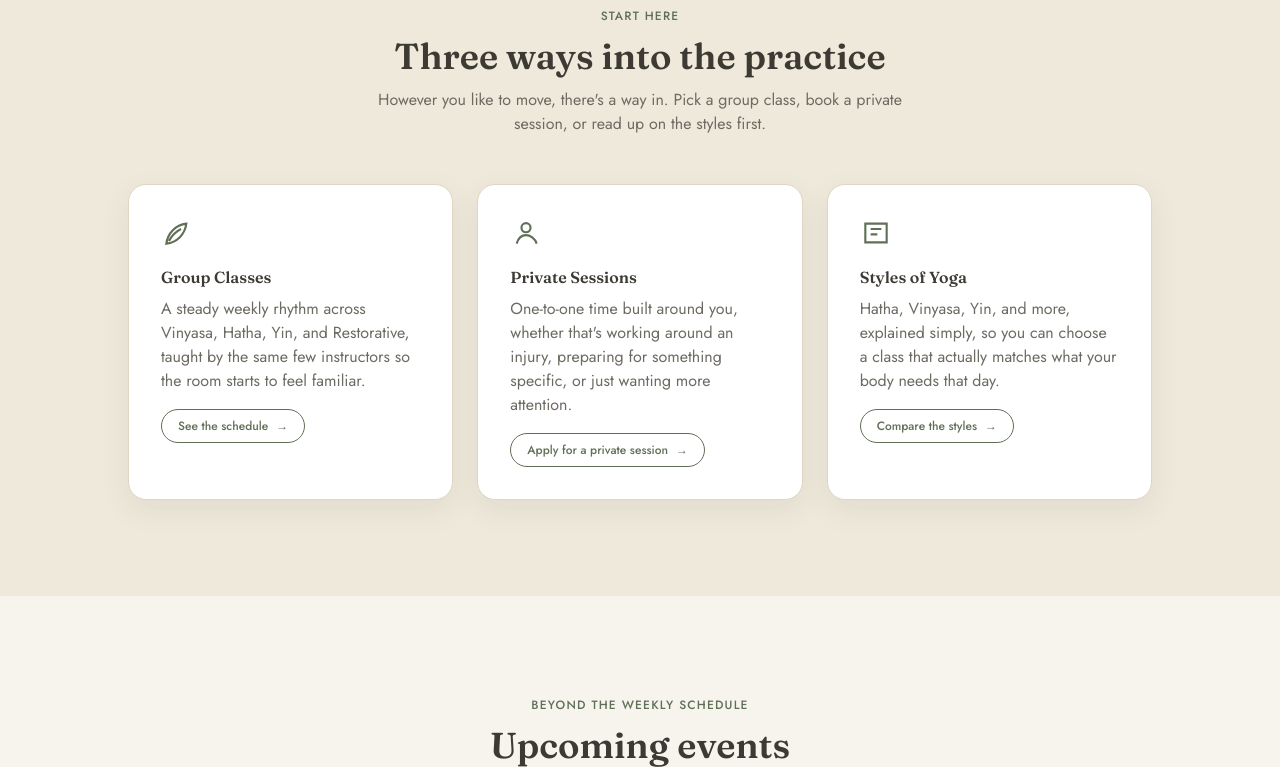
Cross-page user flows › lets a visitor go from the home page CTA to applying for a private session
The image size is (1280, 767).
(page scrolled)
Click the link "Apply for a private session →" at (608, 450), box 510,433 -> 705,467
(page scrolled)
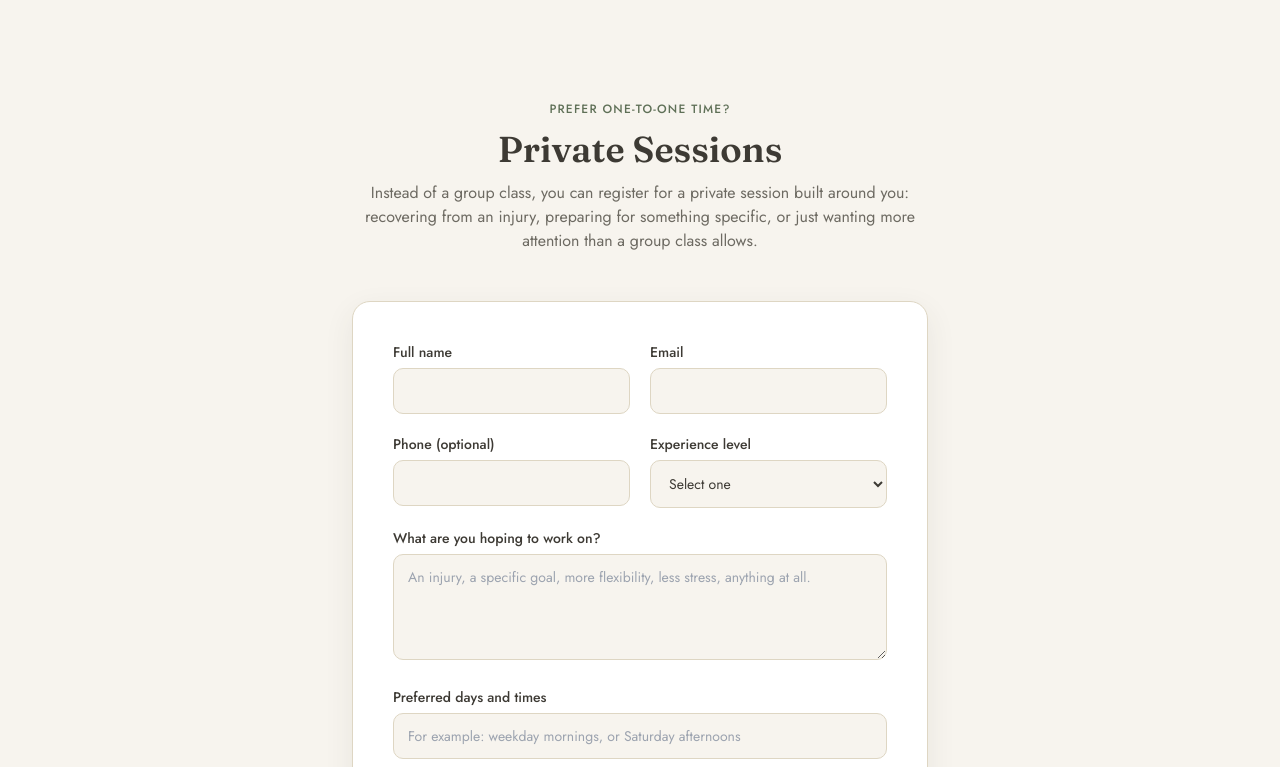
Expected: the heading "Private Sessions" is shown, 498,127 -> 782,171
Type "Jordan Reyes" into the field labelled "Full name" at (512, 391), box 393,368 -> 630,414
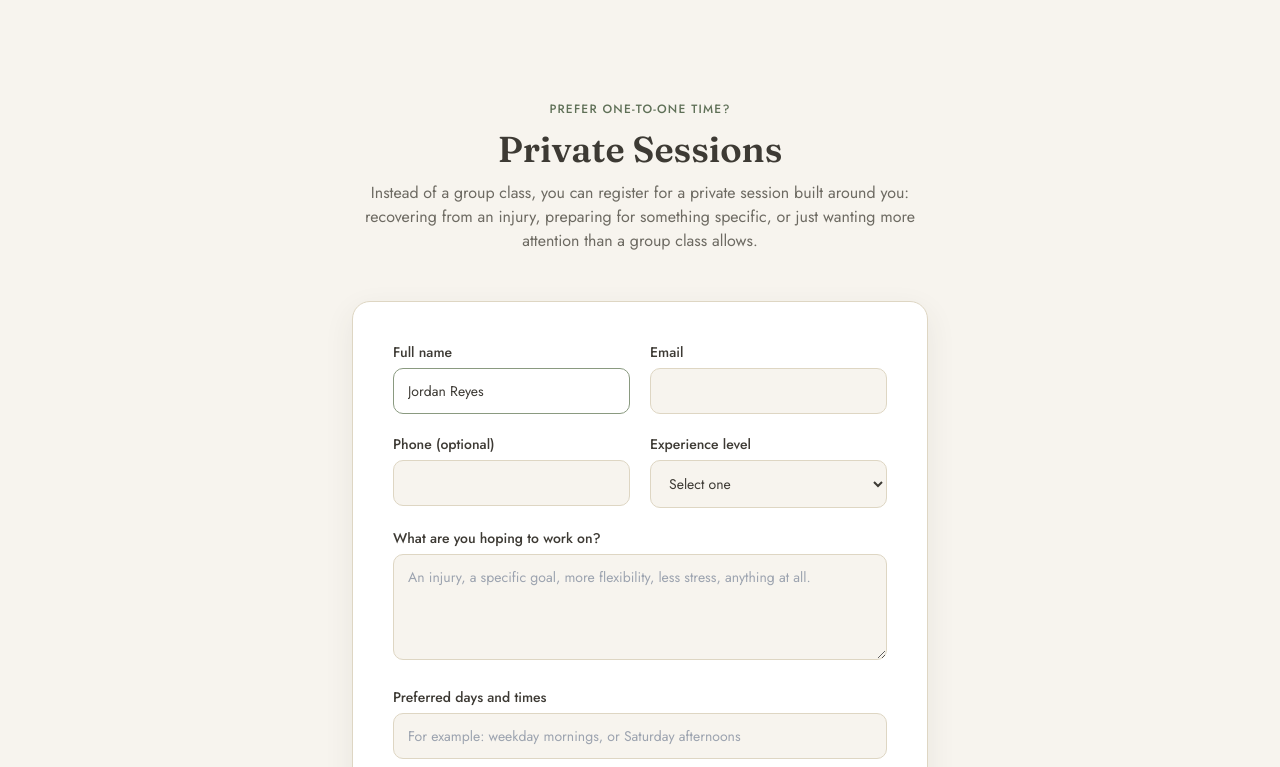
Type "jordan@example.com" into the field labelled "Email" at (768, 391), box 650,368 -> 887,414
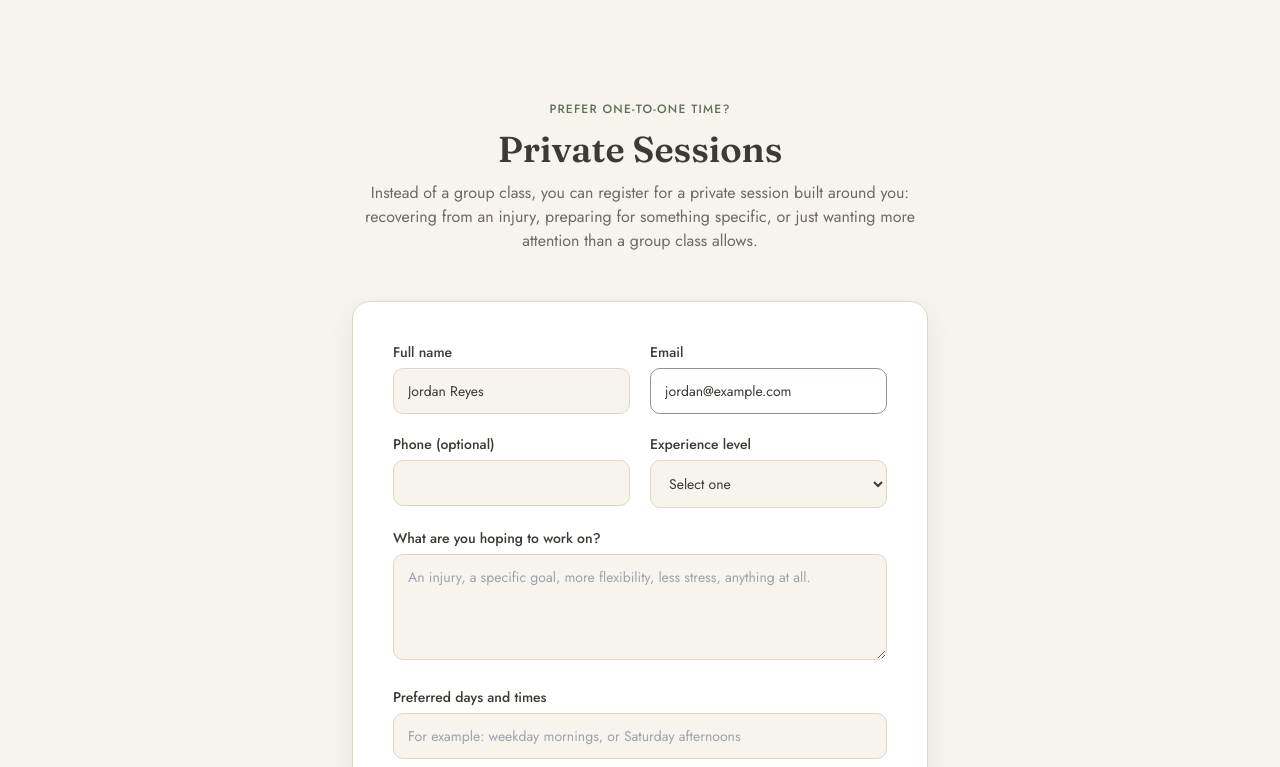
Select "Some experience" in the dropdown labelled "Experience level" at (768, 484), box 650,460 -> 887,508
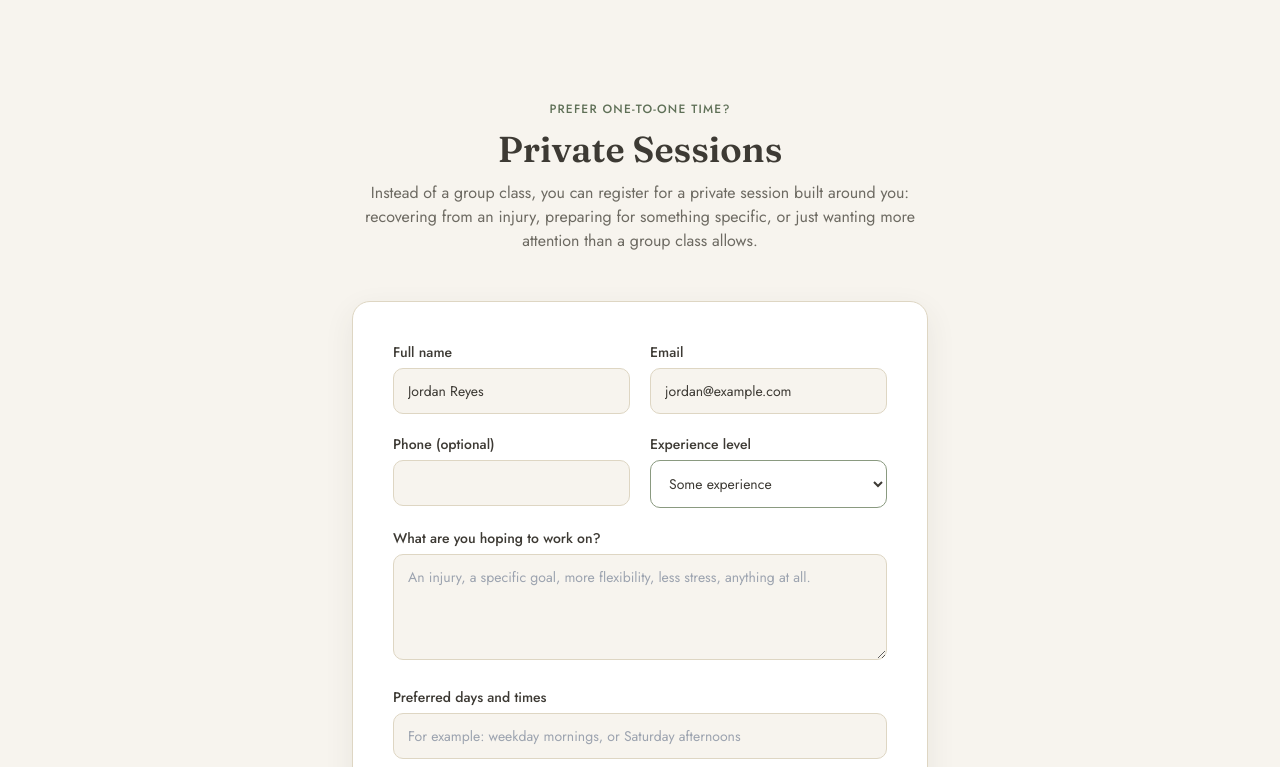
Type "More flexibility" into the text box labelled "What are you hoping to work on?" at (640, 607), box 393,554 -> 887,660
(page scrolled)
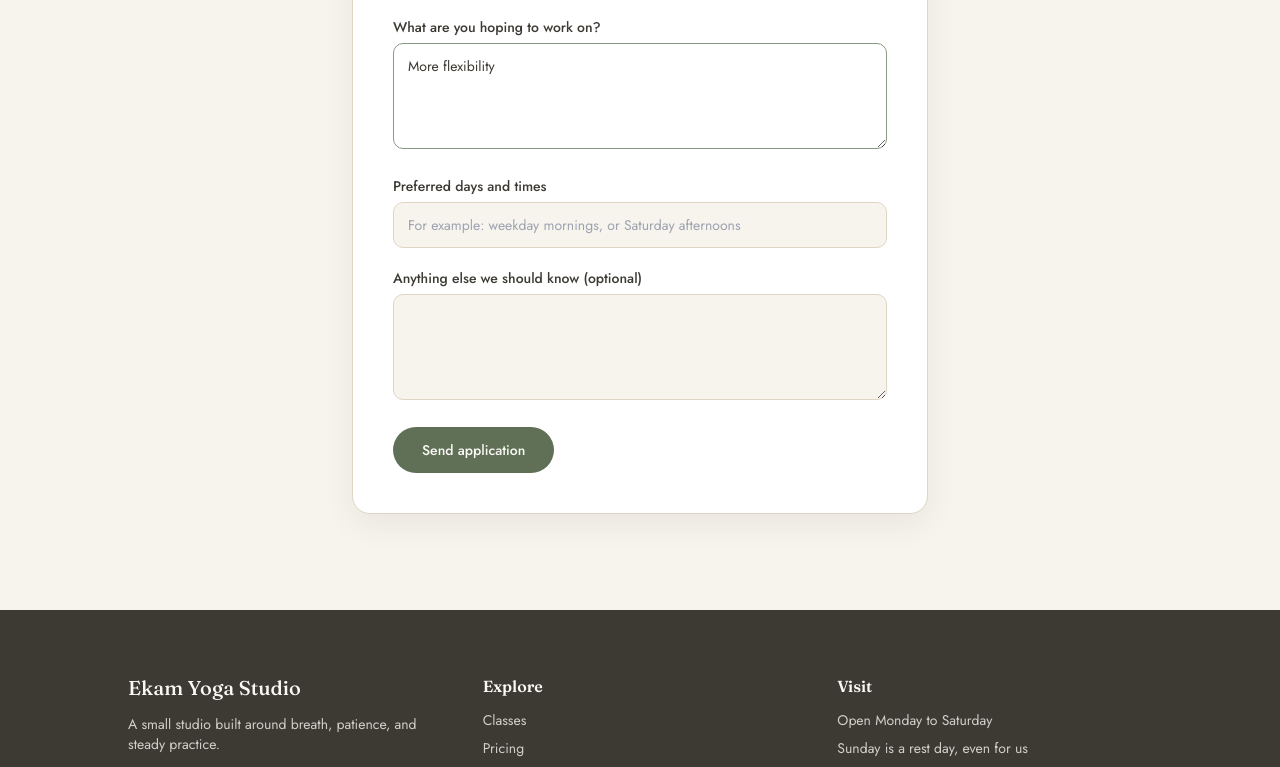
Click the button "Send application" at (474, 450), box 393,427 -> 554,473
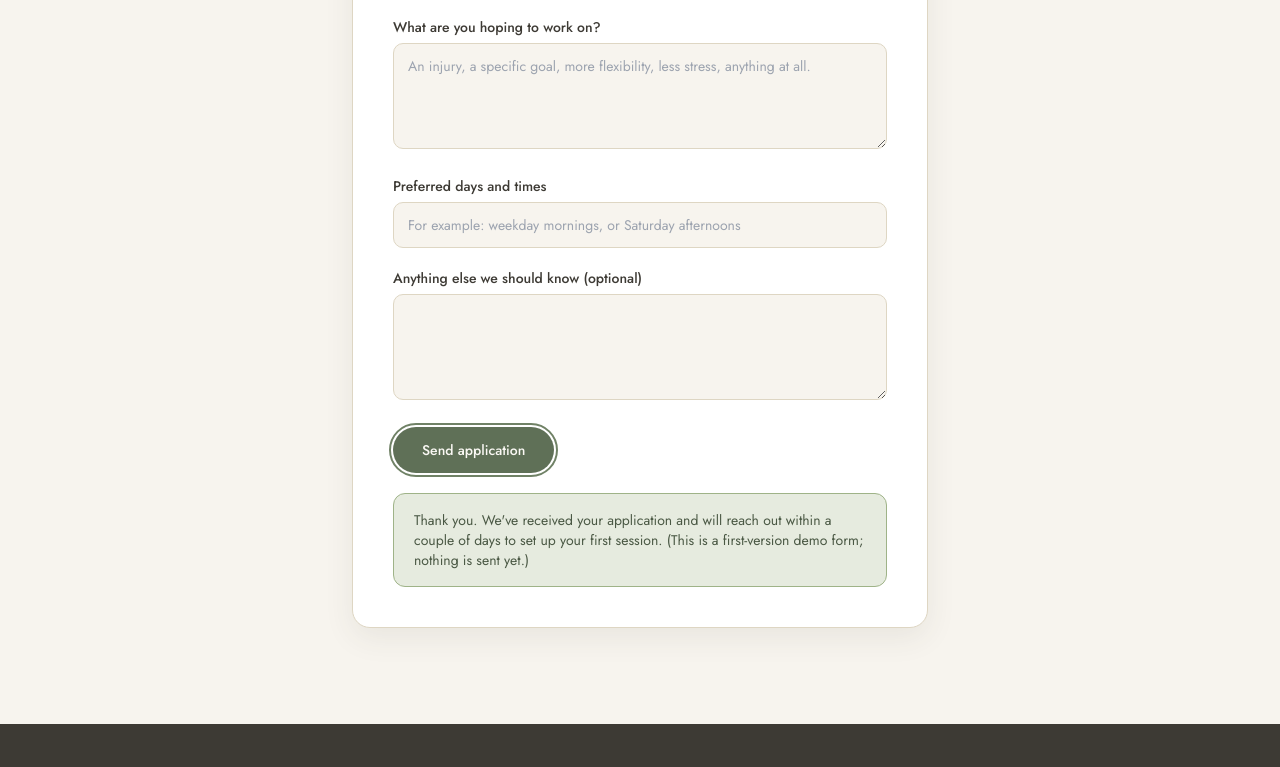
Result: the message shows "received your application" at 414,510 -> 864,570
